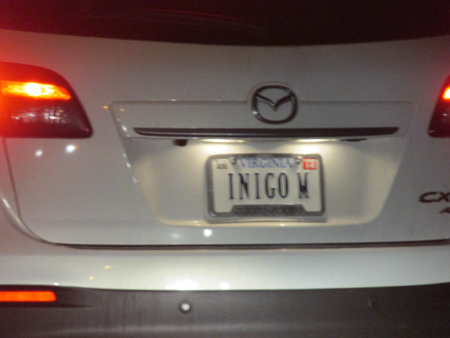license plate: (203, 153, 325, 216)
